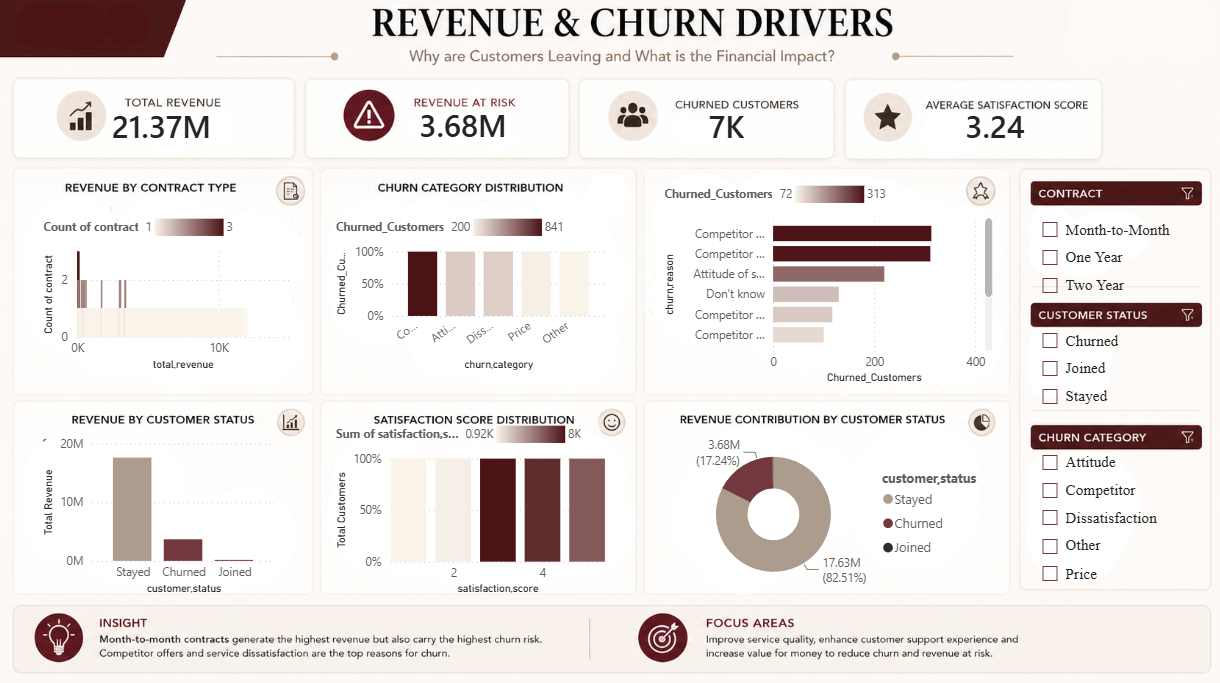

Layout of this report page (visuals, bound fields, positions):
{"tool":"powerbi","page":{"name":"Page 3","canvas":[1280,720],"ordinal":1},"visuals":[{"type":"columnChart","fields":{"Y":["CountNonNull(telecom_churn_new_sql.contract)"],"Category":["telecom_churn_new_sql.total,revenue"]},"box":[45,225,276.7,170],"z":0},{"type":"clusteredColumnChart","fields":{"Category":["telecom_churn_new_sql.customer,status"],"Y":["telecom_churn_new_sql.Total Revenue"]},"box":[45,453.3,251.7,175],"z":1},{"type":"barChart","fields":{"Category":["telecom_churn_new_sql.churn,reason"],"Y":["telecom_churn_new_sql.Churned_Customers"]},"box":[691.7,190,351.7,218.3],"z":2},{"type":"hundredPercentStackedColumnChart","fields":{"Category":["telecom_churn_new_sql.churn,category"],"Y":["telecom_churn_new_sql.Churned_Customers"]},"box":[350,225,290,170],"z":3},{"type":"donutChart","fields":{"Y":["telecom_churn_new_sql.Total Revenue"],"Category":["telecom_churn_new_sql.customer,status"]},"box":[691.7,453.3,351.7,175],"z":4},{"type":"hundredPercentStackedColumnChart","fields":{"Category":["telecom_churn_new_sql.satisfaction,score"],"Y":["telecom_churn_new_sql.Total Customers"]},"box":[350,440,290,188.3],"z":5},{"type":"slicer","fields":{"Values":["telecom_churn_new_sql.contract"]},"box":[1078.3,225,201.7,110],"z":6},{"type":"slicer","fields":{"Values":["telecom_churn_new_sql.customer,status"]},"box":[1078.3,340,201.7,100],"z":7},{"type":"slicer","fields":{"Values":["telecom_churn_new_sql.churn,category"]},"box":[1078.3,466.7,201.7,185],"z":8},{"type":"cardVisual","fields":{"Data":["telecom_churn_new_sql.Total Revenue"]},"box":[105,96.7,158.3,75],"z":9},{"type":"cardVisual","fields":{"Data":["telecom_churn_new_sql.Revenue at Risk"]},"box":[425,96.7,165,73.3],"z":10},{"type":"cardVisual","fields":{"Data":["telecom_churn_new_sql.Average Satisfaction"]},"box":[993.3,96.7,98.3,75],"z":11},{"type":"cardVisual","fields":{"Data":["telecom_churn_new_sql.Total Customers"]},"box":[726.7,96.7,100,75],"z":12}]}

Visuals, with their boxes in screenshot pixels (x1, y1, x2, y2), scaled from the page's 1280x720 canvas onto the 1220x683 screenshot:
columnChart - CountNonNull(telecom_churn_new_sql.contract) x telecom_churn_new_sql.total,revenue: <region>43, 213, 307, 375</region>
clusteredColumnChart - telecom_churn_new_sql.customer,status x telecom_churn_new_sql.Total Revenue: <region>43, 430, 283, 596</region>
barChart - telecom_churn_new_sql.churn,reason x telecom_churn_new_sql.Churned_Customers: <region>659, 180, 994, 387</region>
hundredPercentStackedColumnChart - telecom_churn_new_sql.churn,category x telecom_churn_new_sql.Churned_Customers: <region>334, 213, 610, 375</region>
donutChart - telecom_churn_new_sql.Total Revenue x telecom_churn_new_sql.customer,status: <region>659, 430, 994, 596</region>
hundredPercentStackedColumnChart - telecom_churn_new_sql.satisfaction,score x telecom_churn_new_sql.Total Customers: <region>334, 417, 610, 596</region>
slicer - telecom_churn_new_sql.contract: <region>1028, 213, 1219, 318</region>
slicer - telecom_churn_new_sql.customer,status: <region>1028, 323, 1219, 417</region>
slicer - telecom_churn_new_sql.churn,category: <region>1028, 443, 1219, 618</region>
cardVisual - telecom_churn_new_sql.Total Revenue: <region>100, 92, 251, 163</region>
cardVisual - telecom_churn_new_sql.Revenue at Risk: <region>405, 92, 562, 161</region>
cardVisual - telecom_churn_new_sql.Average Satisfaction: <region>947, 92, 1040, 163</region>
cardVisual - telecom_churn_new_sql.Total Customers: <region>693, 92, 788, 163</region>
